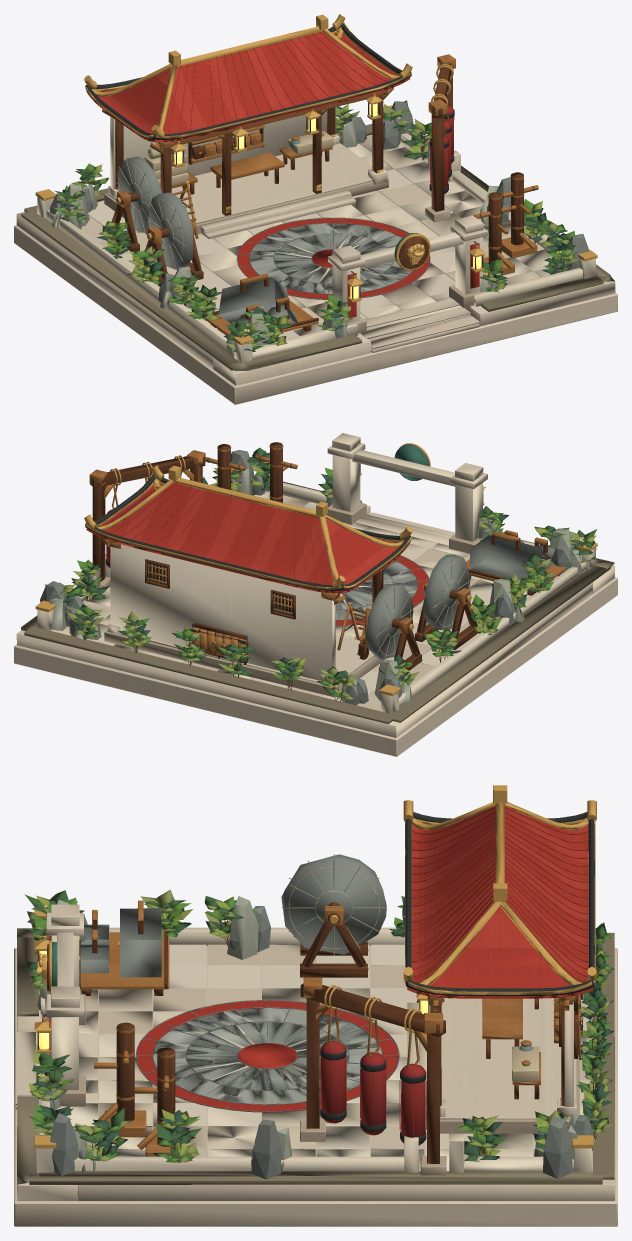
File: martial-lod1-955e3ff35b67.glb
3 views of the same model, one above another, from view 1: azimuth 30°, elevation 25°; view 2: azimuth 150°, elevation 25°; view 3: azimuth 270°, elevation 25° (orthographic). The views are drawn at different scales.
Parts seen in each view (by area): view 1: SM_Martial_MAT_CT2_Stone.008, SM_Martial_MAT_CT2_IvoryPlaster.008, SM_Martial_MAT_CT2_FoldedTerracotta.008, SM_Martial_MAT_CT2_DarkTimber.008, SM_Martial_MAT_CT2_TrainingStone.008, SM_Martial_MAT_CT2_FoldedTerracottaAlt.008, SM_Martial_MAT_CT2_HoneyTimber.008, SM_Martial_MAT_CT2_MatteCopper.008, SM_Martial_MAT_CT2_PlantingSoil.008, SM_Martial_MAT_CT2_PavingTone_1.008, SM_Martial_MAT_CT2_PracticeGreyStoneLight.008, SM_Martial_MAT_CT2_PracticeGreyStone.008 (+16 smaller); view 2: SM_Martial_MAT_CT2_IvoryPlaster.008, SM_Martial_MAT_CT2_Stone.008, SM_Martial_MAT_CT2_FoldedTerracotta.008, SM_Martial_MAT_CT2_TrainingStone.008, SM_Martial_MAT_CT2_PlantingSoil.008, SM_Martial_MAT_CT2_DarkTimber.008, SM_Martial_MAT_CT2_FoldedTerracottaAlt.008, SM_Martial_MAT_CT2_MatteCopper.008, SM_Martial_MAT_CT2_HoneyTimber.008, SM_Martial_MAT_CT2_StoneShadow.008, SM_Martial_MAT_CT2_CharcoalTrim.008, SM_Martial_MAT_CT2_LeafBright.008 (+13 smaller); view 3: SM_Martial_MAT_CT2_Stone.008, SM_Martial_MAT_CT2_FoldedTerracotta.008, SM_Martial_MAT_CT2_IvoryPlaster.008, SM_Martial_MAT_CT2_TrainingStone.008, SM_Martial_MAT_CT2_FoldedTerracottaAlt.008, SM_Martial_MAT_CT2_PlantingSoil.008, SM_Martial_MAT_CT2_DarkTimber.008, SM_Martial_MAT_CT2_HoneyTimber.008, SM_Martial_MAT_CT2_MatteCopper.008, SM_Martial_MAT_CT2_PavingTone_1.008, SM_Martial_MAT_CT2_PracticeGreyStoneLight.008, SM_Martial_MAT_CT2_PavingTone_3.008 (+15 smaller).
Boxes of the visible parts, left/top/right/bottom form: SM_Martial_MAT_CT2_Stone.008: left=14, top=134, right=617, bottom=404; SM_Martial_MAT_CT2_IvoryPlaster.008: left=37, top=107, right=595, bottom=362; SM_Martial_MAT_CT2_FoldedTerracotta.008: left=104, top=32, right=479, bottom=317; SM_Martial_MAT_CT2_DarkTimber.008: left=68, top=63, right=564, bottom=340; SM_Martial_MAT_CT2_TrainingStone.008: left=50, top=101, right=588, bottom=338; SM_Martial_MAT_CT2_FoldedTerracottaAlt.008: left=86, top=32, right=449, bottom=184; SM_Martial_MAT_CT2_HoneyTimber.008: left=102, top=54, right=538, bottom=334; SM_Martial_MAT_CT2_MatteCopper.008: left=35, top=14, right=597, bottom=344; SM_Martial_MAT_CT2_PlantingSoil.008: left=21, top=124, right=614, bottom=370; SM_Martial_MAT_CT2_PavingTone_1.008: left=156, top=143, right=552, bottom=339; SM_Martial_MAT_CT2_PracticeGreyStoneLight.008: left=250, top=223, right=401, bottom=293; SM_Martial_MAT_CT2_PracticeGreyStone.008: left=253, top=224, right=411, bottom=292; SM_Martial_MAT_CT2_IvoryPlaster.008: left=37, top=450, right=595, bottom=713; SM_Martial_MAT_CT2_Stone.008: left=14, top=433, right=617, bottom=756; SM_Martial_MAT_CT2_FoldedTerracotta.008: left=90, top=482, right=428, bottom=626; SM_Martial_MAT_CT2_TrainingStone.008: left=40, top=450, right=571, bottom=705; SM_Martial_MAT_CT2_PlantingSoil.008: left=21, top=481, right=614, bottom=723; SM_Martial_MAT_CT2_DarkTimber.008: left=67, top=442, right=560, bottom=702; SM_Martial_MAT_CT2_FoldedTerracottaAlt.008: left=86, top=482, right=410, bottom=593; SM_Martial_MAT_CT2_MatteCopper.008: left=35, top=443, right=597, bottom=696; SM_Martial_MAT_CT2_HoneyTimber.008: left=89, top=445, right=566, bottom=661; SM_Martial_MAT_CT2_StoneShadow.008: left=100, top=502, right=480, bottom=696; SM_Martial_MAT_CT2_CharcoalTrim.008: left=85, top=474, right=410, bottom=664; SM_Martial_MAT_CT2_LeafBright.008: left=55, top=450, right=574, bottom=698; SM_Martial_MAT_CT2_Stone.008: left=14, top=904, right=617, bottom=1226; SM_Martial_MAT_CT2_FoldedTerracotta.008: left=49, top=808, right=593, bottom=1112; SM_Martial_MAT_CT2_IvoryPlaster.008: left=36, top=927, right=592, bottom=1172; SM_Martial_MAT_CT2_TrainingStone.008: left=43, top=854, right=592, bottom=1179; SM_Martial_MAT_CT2_FoldedTerracottaAlt.008: left=320, top=806, right=593, bottom=1135; SM_Martial_MAT_CT2_PlantingSoil.008: left=17, top=928, right=614, bottom=1184; SM_Martial_MAT_CT2_DarkTimber.008: left=37, top=902, right=598, bottom=1163; SM_Martial_MAT_CT2_HoneyTimber.008: left=80, top=900, right=580, bottom=1156; SM_Martial_MAT_CT2_MatteCopper.008: left=34, top=785, right=596, bottom=1148; SM_Martial_MAT_CT2_PavingTone_1.008: left=99, top=944, right=587, bottom=1171; SM_Martial_MAT_CT2_PracticeGreyStoneLight.008: left=153, top=1008, right=381, bottom=1104; SM_Martial_MAT_CT2_PavingTone_3.008: left=56, top=944, right=468, bottom=1171.
Bounding box in the file's own units: 10 × 4.81 × 10.
34 materials, 12 textured.
